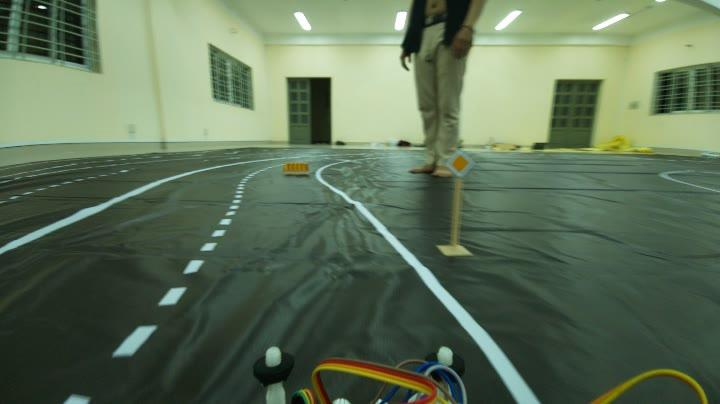priority: (445, 149, 478, 180)
roadblock: (282, 159, 315, 180)
